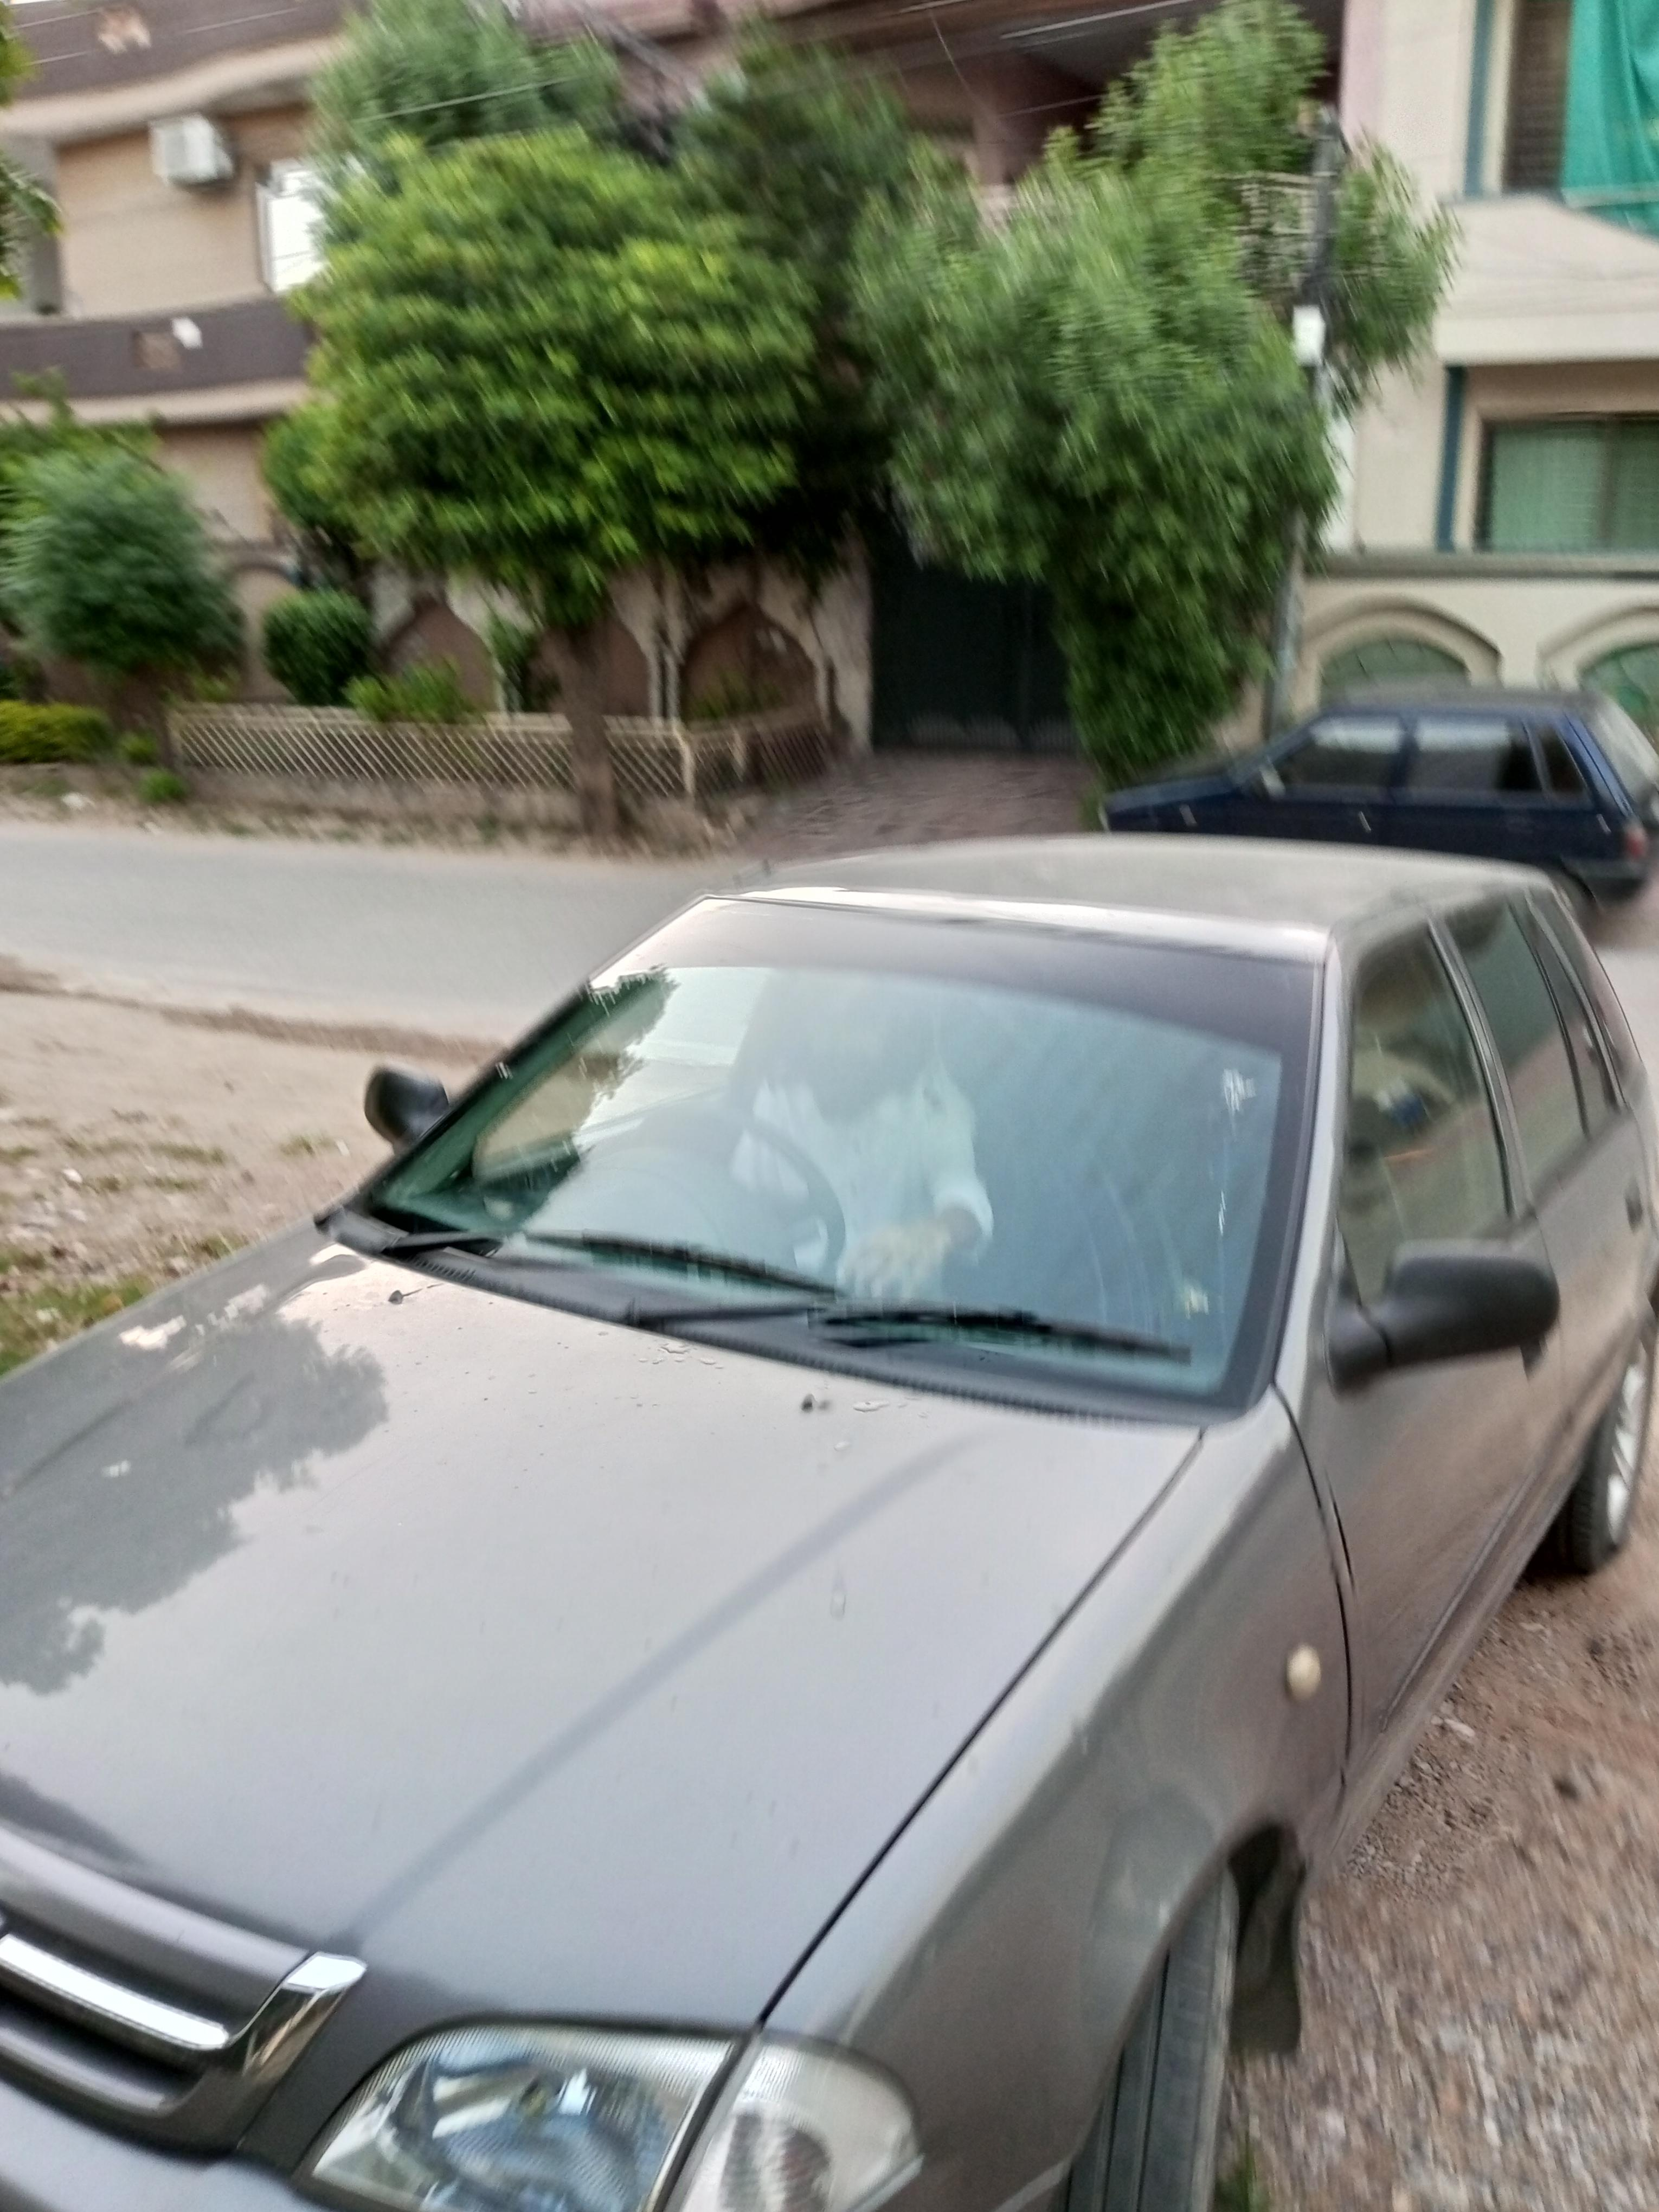windshield: (326, 883, 1335, 1409)
